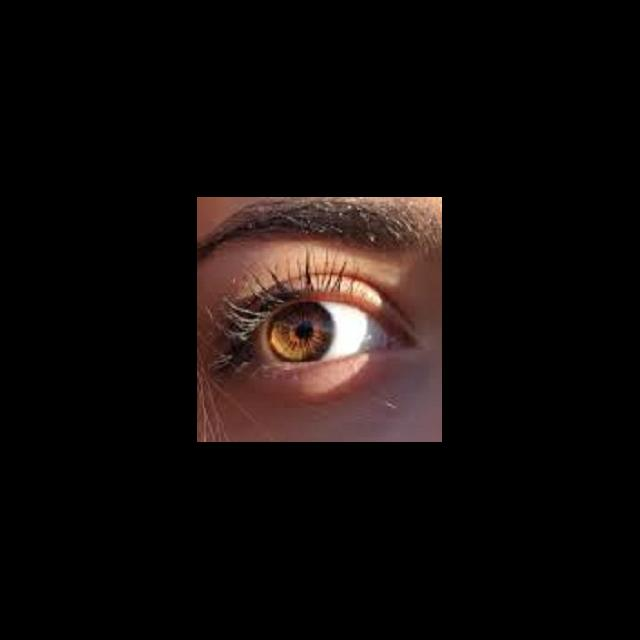eye: (235, 299, 386, 371)
iris: (268, 303, 336, 362)
